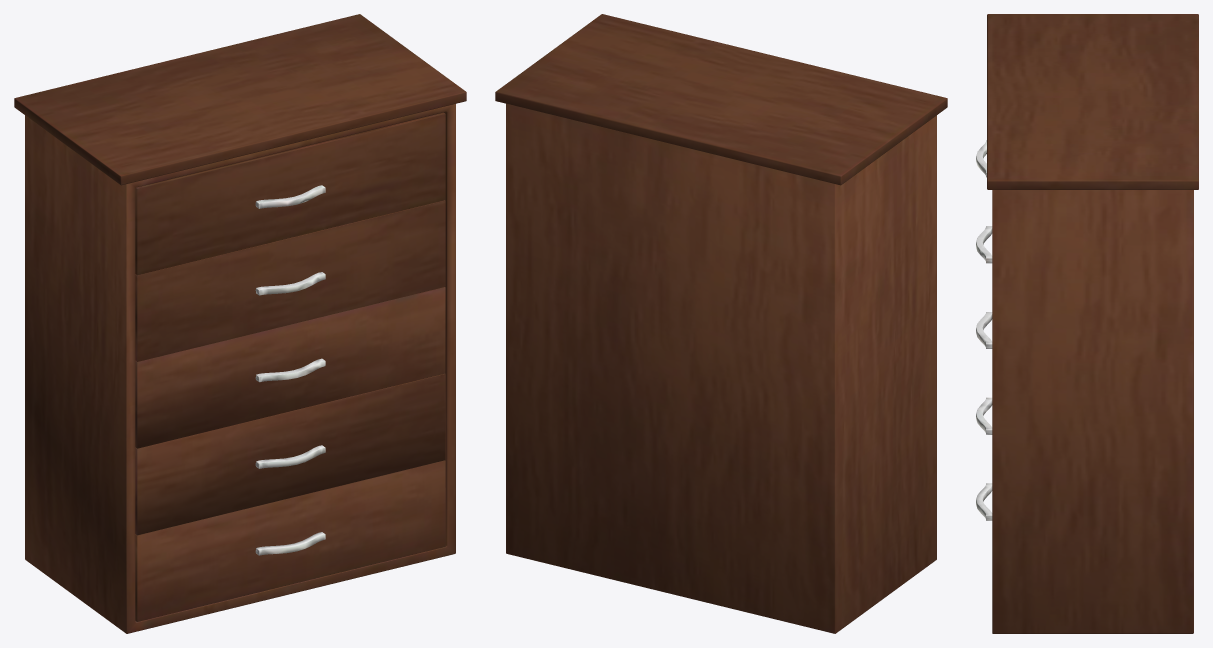
The model's file is dresser_leon.glb.
3 renders of one model, left to right at view 1: azimuth 30°, elevation 25°; view 2: azimuth 150°, elevation 25°; view 3: azimuth 270°, elevation 25°, orthographic.
Parts seen in each view (by area): view 1: Object_2; view 2: Object_2; view 3: Object_2.
Boxes of the visible parts, left/top/right/bottom form: Object_2: left=14, top=14, right=466, bottom=633; Object_2: left=495, top=14, right=947, bottom=633; Object_2: left=976, top=14, right=1198, bottom=633.
Bounding box in the file's own units: 0.6597 × 0.8416 × 0.3715.
Materials: 1 (1 with a texture image).
